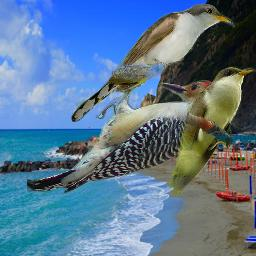Cuckoo: (68, 2, 236, 123), (167, 66, 256, 196)
Woodpecker: (27, 71, 228, 197)
